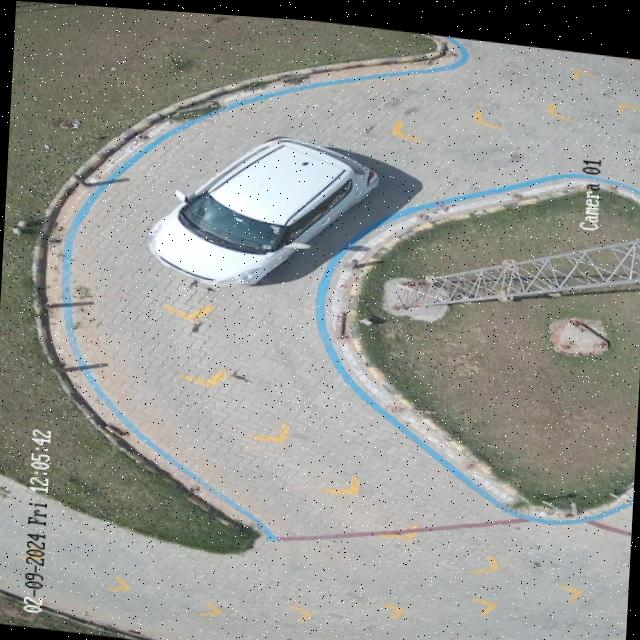car: (149, 132, 377, 282)
